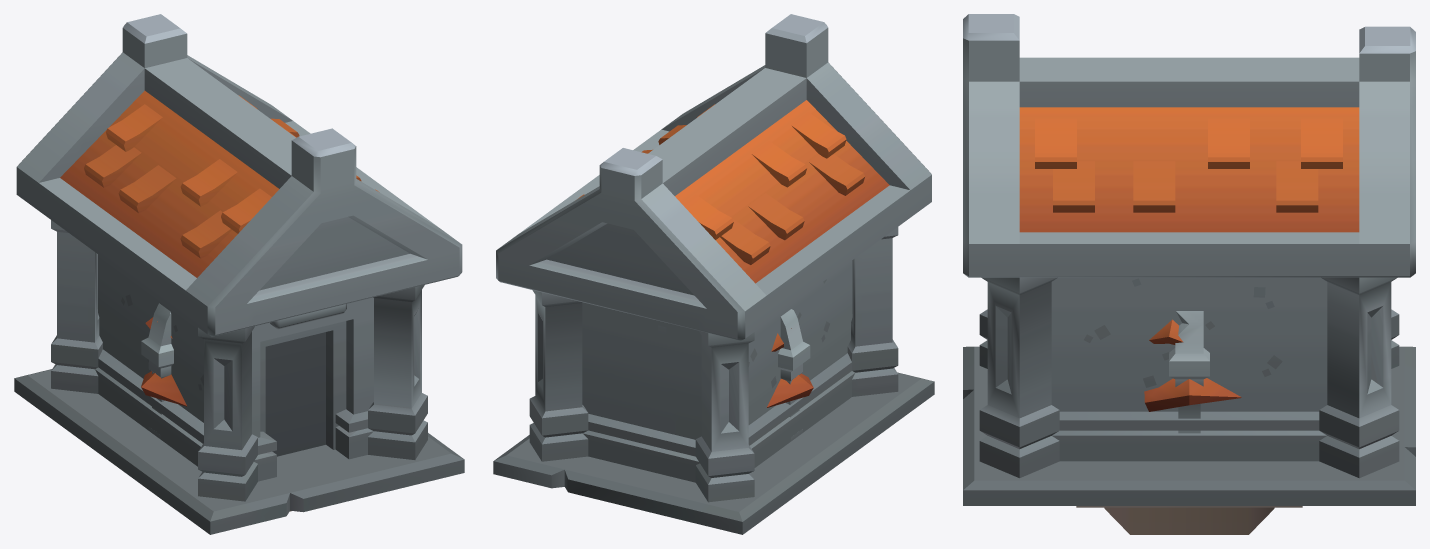
File: spooky.glb
3 renders of one model, left to right at view 1: azimuth 30°, elevation 25°; view 2: azimuth 150°, elevation 25°; view 3: azimuth 270°, elevation 25°, orthographic. The views are drawn at different scales.
Visible parts, largest first — view 1: crypt, arch, tree_pine_orange_large; view 2: crypt, arch, tree_pine_orange_large; view 3: crypt, floor_dirt_grave, arch, tree_pine_orange_large.
Boxes of the visible parts, x1=… form: crypt: x1=14, y1=14, x2=464, y2=534; arch: x1=141, y1=303, x2=173, y2=439; tree_pine_orange_large: x1=141, y1=317, x2=187, y2=406; crypt: x1=493, y1=14, x2=934, y2=534; arch: x1=778, y1=309, x2=810, y2=441; tree_pine_orange_large: x1=767, y1=328, x2=813, y2=407; crypt: x1=963, y1=14, x2=1415, y2=505; floor_dirt_grave: x1=1104, y1=507, x2=1274, y2=534; arch: x1=1169, y1=311, x2=1209, y2=433; tree_pine_orange_large: x1=1144, y1=319, x2=1241, y2=411.
Bounding box in the file's own units: 6 × 9.5 × 8.
1 material, 1 textured.
